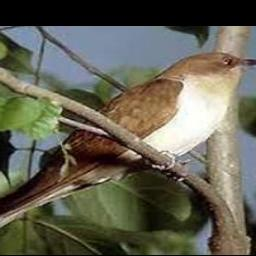Cuckoo: (0, 52, 256, 239)
